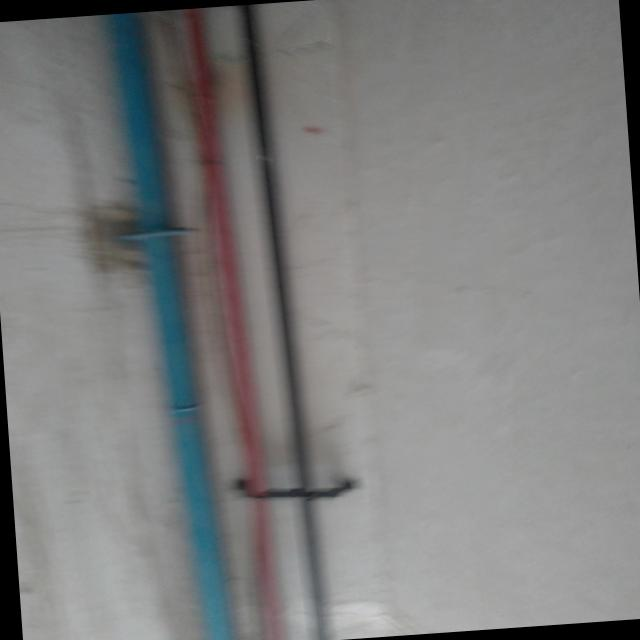gas: (97, 13, 232, 640), (180, 7, 280, 640), (238, 4, 335, 640)
